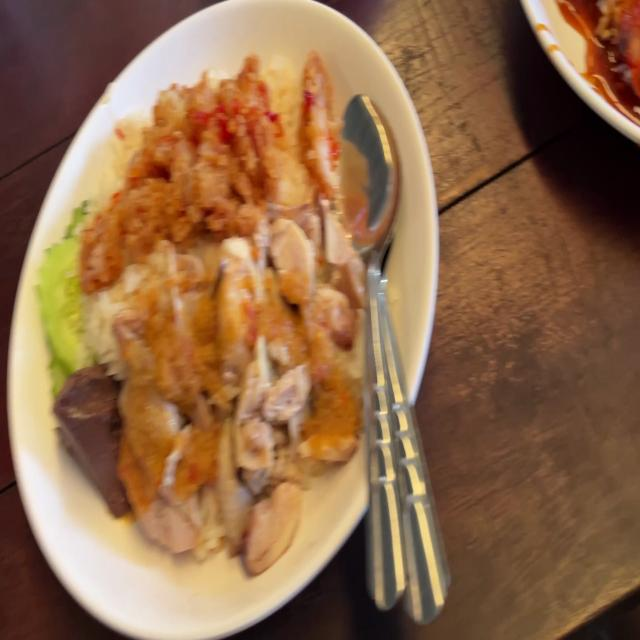boiled_chicken: (126, 253, 342, 534)
boiled_chicken_blood_jelly: (56, 366, 129, 526)
chicken_rice: (42, 53, 366, 571)
cucumber: (44, 201, 97, 365)
fried_chicken: (81, 76, 336, 232)
